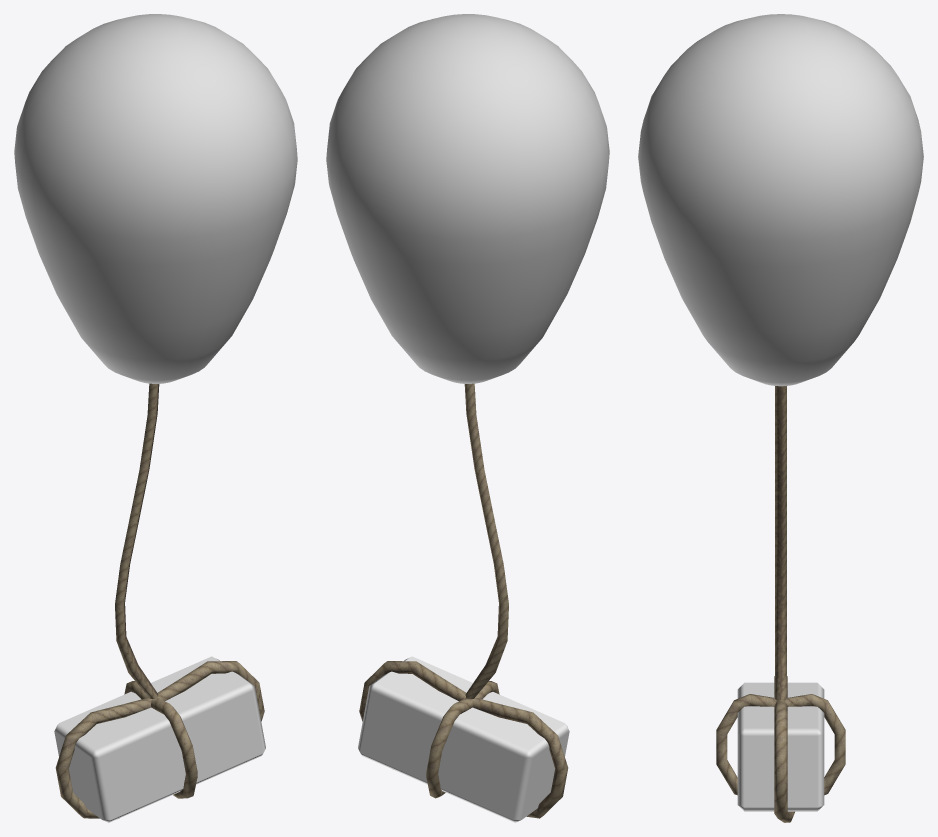
The model's file is balloon_01.gltf.
3 renders of one model, left to right at view 1: azimuth 30°, elevation 25°; view 2: azimuth 150°, elevation 25°; view 3: azimuth 270°, elevation 25°, orthographic.
Parts seen in each view (by area): view 1: balloon.001, package.001, rope.001; view 2: balloon.001, package.001, rope.001; view 3: balloon.001, package.001, rope.001.
Part boxes in pixels (bbox=[...]): balloon.001: bbox=[14, 14, 297, 383]; package.001: bbox=[54, 656, 265, 822]; rope.001: bbox=[55, 383, 264, 818]; balloon.001: bbox=[326, 14, 609, 383]; package.001: bbox=[358, 656, 569, 822]; rope.001: bbox=[359, 383, 568, 818]; balloon.001: bbox=[638, 14, 923, 386]; package.001: bbox=[737, 682, 824, 811]; rope.001: bbox=[716, 386, 845, 822].
Bounding box in the file's own units: 1.5 × 4.54 × 1.5.
Materials: 3 (1 with a texture image).
